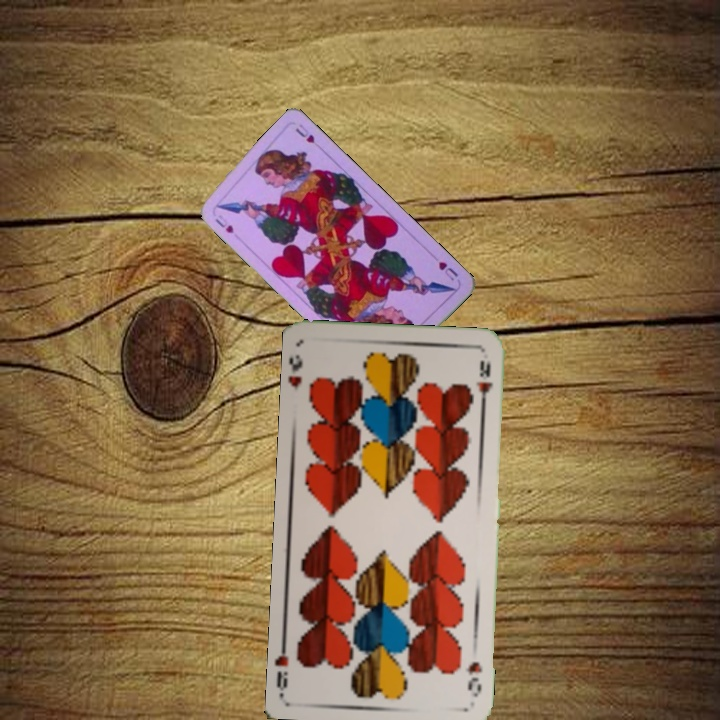H9: (463, 658, 485, 700), (287, 351, 305, 391)
HU: (434, 257, 461, 283), (211, 210, 236, 236)
